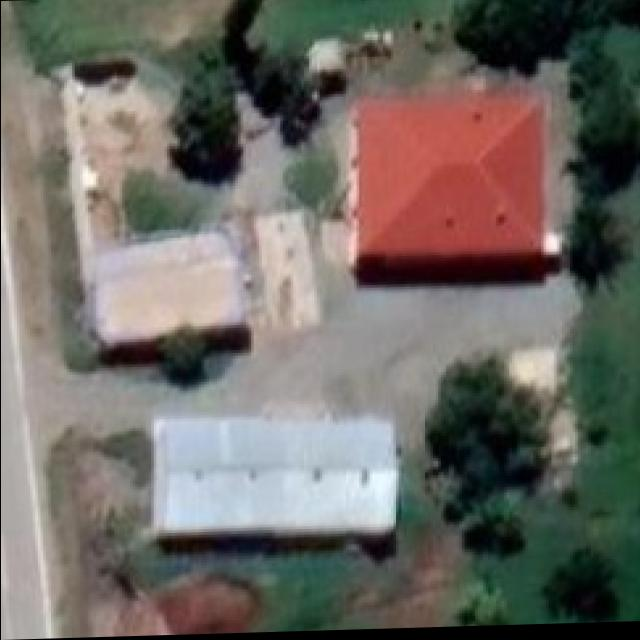Batiment: (349, 90, 559, 287), (97, 213, 317, 346), (156, 420, 397, 536)
